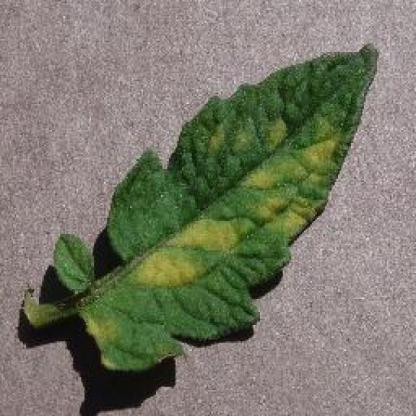Tomato_Leaf_Mold: (90, 46, 378, 375)
